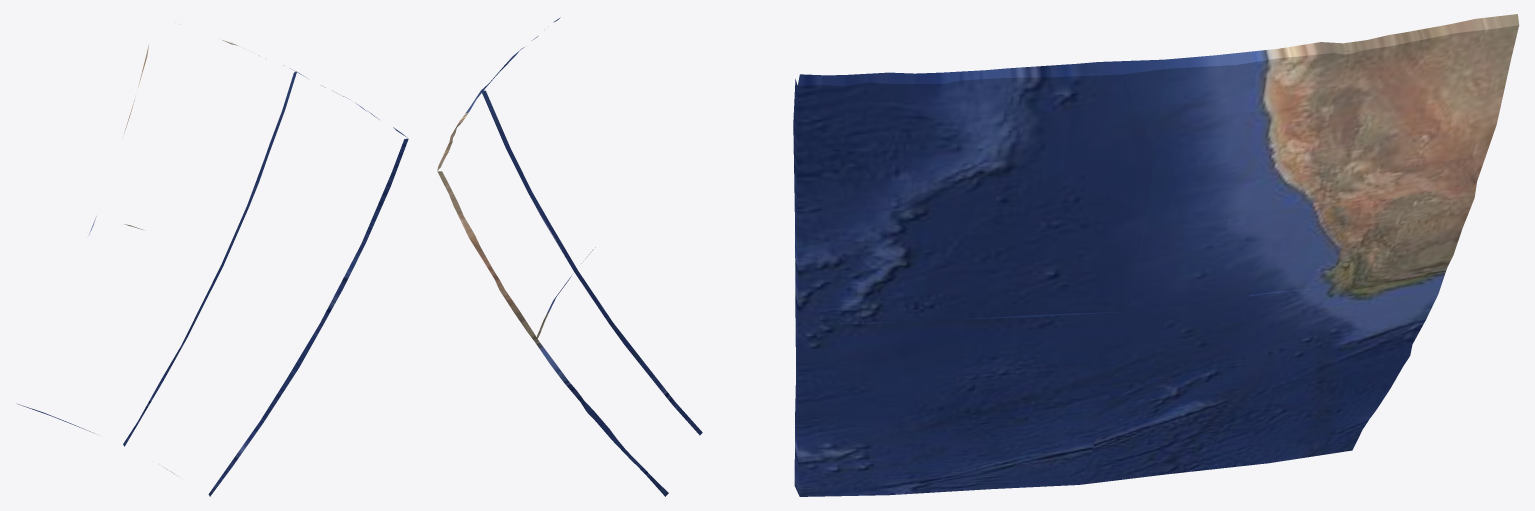
The picture shows the model from 3 angles, left to right: view 1: azimuth 30°, elevation 25°; view 2: azimuth 150°, elevation 25°; view 3: azimuth 270°, elevation 25°; orthographic projection. The views are drawn at different scales.
Bounding box in the file's own units: 1755557 × 2102778 × 2285701.
Materials: 1 (1 with a texture image).
